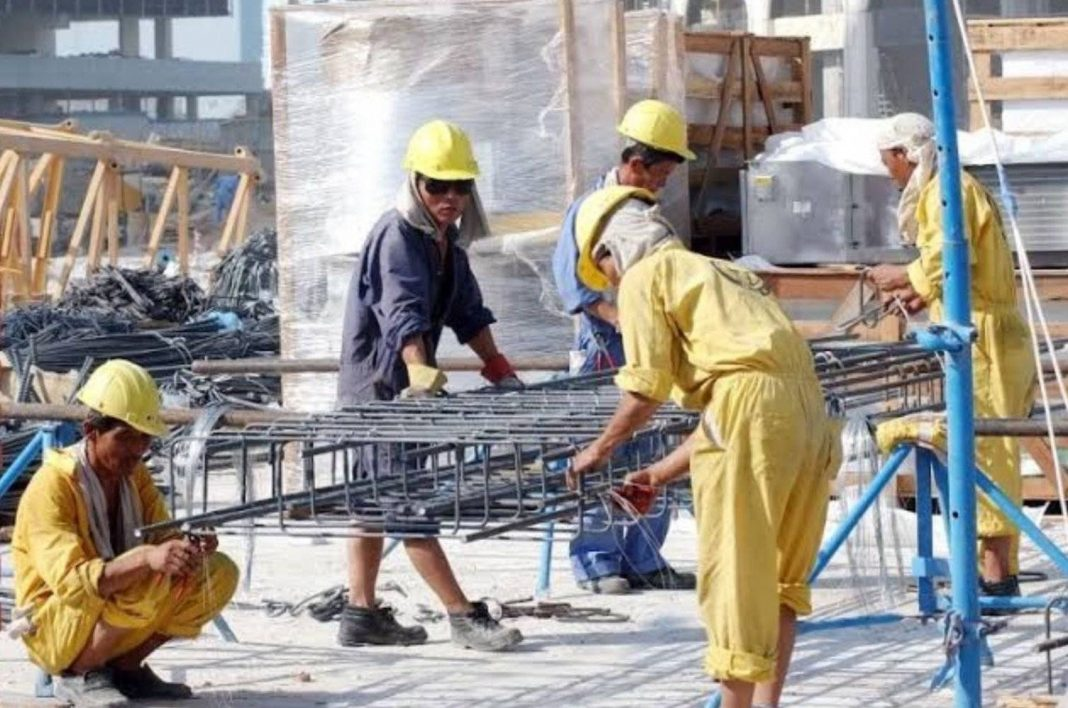person: (565, 184, 838, 708), (334, 118, 533, 651), (864, 110, 1031, 619), (9, 359, 240, 701), (553, 97, 700, 598)
